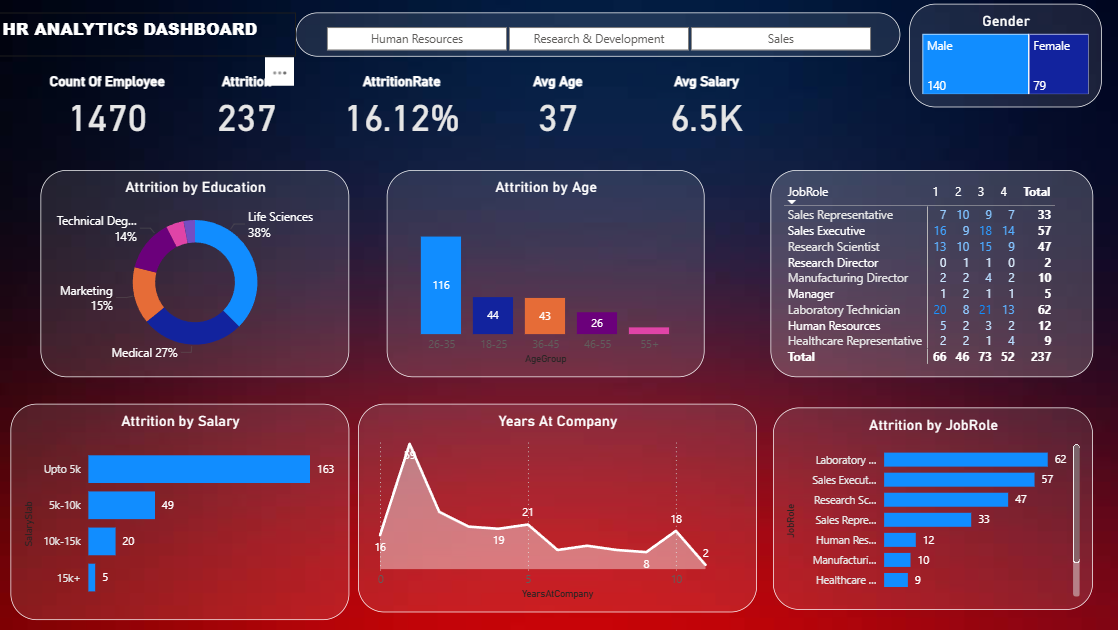

The page's visual inventory and layout, read from the dashboard file:
{"tool":"powerbi","page":{"name":"Page 1","canvas":[1280,720],"ordinal":0},"visuals":[{"type":"card","title":"Count Of Employee","fields":{"Values":["CountNonNull(HR_Analytics.EmpID)"]},"box":[48.6,84.3,152.9,75.7],"z":0},{"type":"card","title":"Attrition","fields":{"Values":["Sum(HR_Analytics.AttritionCount)"]},"box":[208.6,84.3,151.4,75.7],"z":1000},{"type":"card","title":"AttritionRate","fields":{"Values":["HR_Analytics.AttritionRate"]},"box":[385.7,84.3,151.4,75.7],"z":2000},{"type":"card","title":"Avg Age","fields":{"Values":["Avg(HR_Analytics.Age)"]},"box":[564.3,84.3,151.4,75.7],"z":3000},{"type":"card","title":"Avg Salary","fields":{"Values":["Avg(HR_Analytics.MonthlyIncome)"]},"box":[734.3,84.3,151.4,75.7],"z":4000},{"type":"donutChart","title":"Attrition by Education","fields":{"Category":["HR_Analytics.EducationField"],"Y":["Sum(HR_Analytics.AttritionCount)"]},"box":[48.6,194.3,352.9,237.1],"z":5000},{"type":"columnChart","title":"Attrition by Age","fields":{"Category":["HR_Analytics.AgeGroup"],"Y":["Sum(HR_Analytics.AttritionCount)"],"Series":["HR_Analytics.AgeGroup"]},"box":[444.3,194.3,362.9,237.1],"z":6000},{"type":"pivotTable","fields":{"Rows":["HR_Analytics.JobRole"],"Columns":["HR_Analytics.JobSatisfaction"],"Values":["Sum(HR_Analytics.AttritionCount)"]},"box":[882.9,194.3,368.6,237.1],"z":7000},{"type":"barChart","title":"Attrition by Salary","fields":{"Category":["HR_Analytics.SalarySlab"],"Y":["Sum(HR_Analytics.AttritionCount)"]},"box":[14.3,461.4,387.1,247.1],"z":8000},{"type":"barChart","title":"Attrition by JobRole","fields":{"Category":["HR_Analytics.JobRole"],"Y":["Sum(HR_Analytics.AttritionCount)"]},"box":[885.7,465.7,365.7,231.4],"z":9000},{"type":"areaChart","title":"Years At Company","fields":{"Category":["HR_Analytics.YearsAtCompany"],"Y":["Sum(HR_Analytics.AttritionCount)"]},"box":[411.4,461.4,455.7,238.6],"z":10000},{"type":"slicer","title":"Attrition by Age","fields":{"Values":["HR_Analytics.Department"]},"box":[340,14.3,691.4,50],"z":11000},{"type":"treemap","title":"Gender","fields":{"Values":["Sum(HR_Analytics.AttritionCount)"],"Group":["HR_Analytics.Gender"]},"box":[1041.4,4.3,220,118.6],"z":12000},{"type":"textbox","box":[0,14.3,340,50],"z":13000}]}

Visuals, with their boxes in screenshot pixels (x1, y1, x2, y2), scaled from the page's 1280x720 canvas onto the 1118x630 screenshot:
"Count Of Employee" card: (42,74,176,140)
"Attrition" card: (182,74,314,140)
"AttritionRate" card: (337,74,469,140)
"Avg Age" card: (493,74,625,140)
"Avg Salary" card: (641,74,774,140)
"Attrition by Education" donutChart: (42,170,351,377)
"Attrition by Age" columnChart: (388,170,705,377)
pivotTable - HR_Analytics.JobRole x HR_Analytics.JobSatisfaction: (771,170,1093,377)
"Attrition by Salary" barChart: (12,404,351,620)
"Attrition by JobRole" barChart: (774,407,1093,610)
"Years At Company" areaChart: (359,404,757,612)
"Attrition by Age" slicer: (297,13,901,56)
"Gender" treemap: (910,4,1102,108)
textbox: (0,13,297,56)
